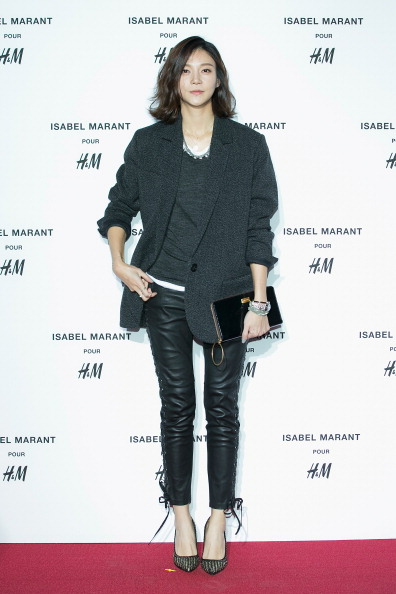em pe: (107, 33, 288, 559)
